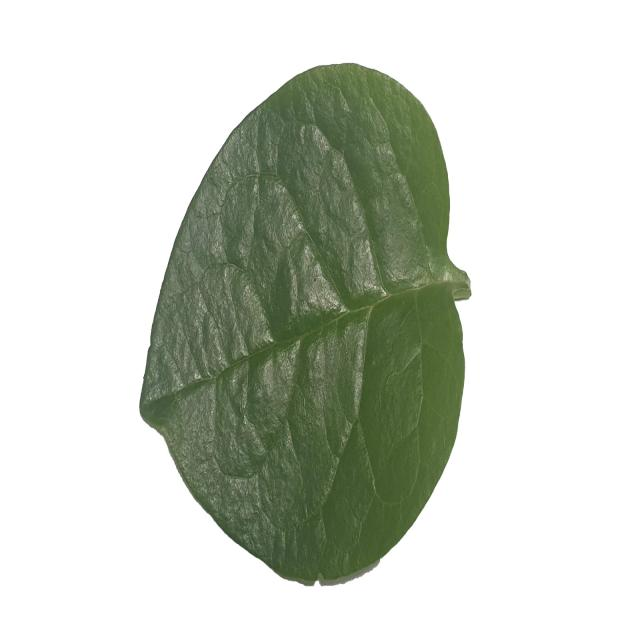Medicinal-Basale: (137, 59, 472, 585)
